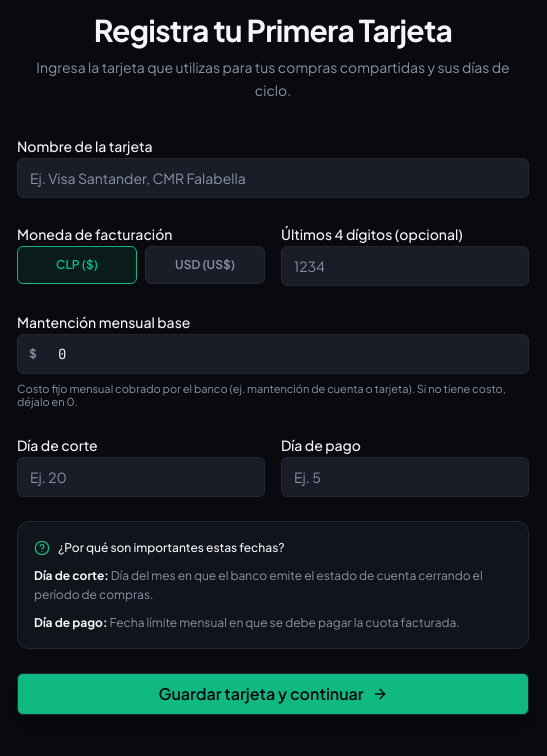
it: Onboarding Components — Phase 1 (StepIndicator, WelcomeStep, FirstCardStep) › FirstCardStep › rejects decimals in CLP for maintenance fee during onboarding
Type "Visa Santander" into the field labelled "Nombre de la tarjeta" at (273, 178), box [17,158,529,198]
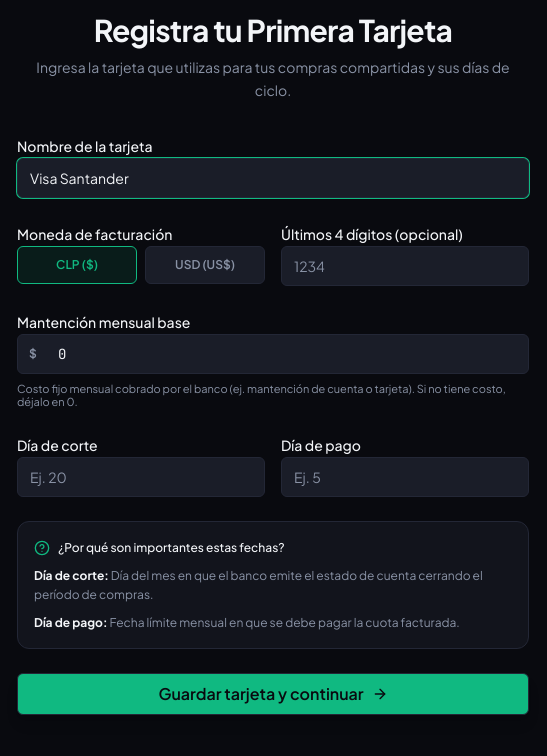
Type "20" into the number field labelled "Día de corte" at (141, 477), box [17,457,265,497]
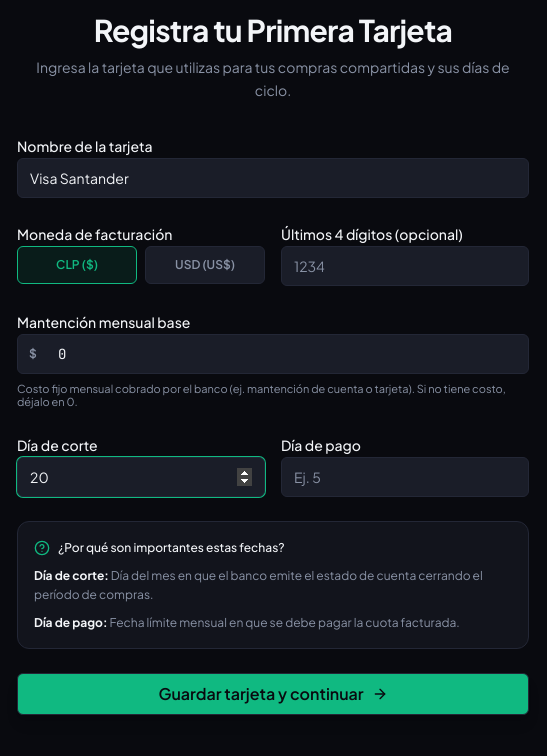
Type "5" into the number field labelled "Día de pago" at (405, 477), box [281,457,529,497]
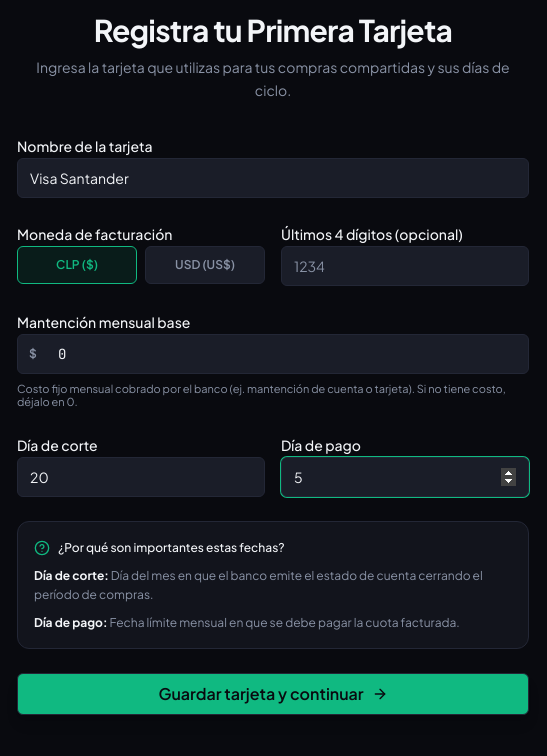
Type "4500.50" into the field labelled "Mantención mensual base" at (273, 354), box [17,334,529,374]
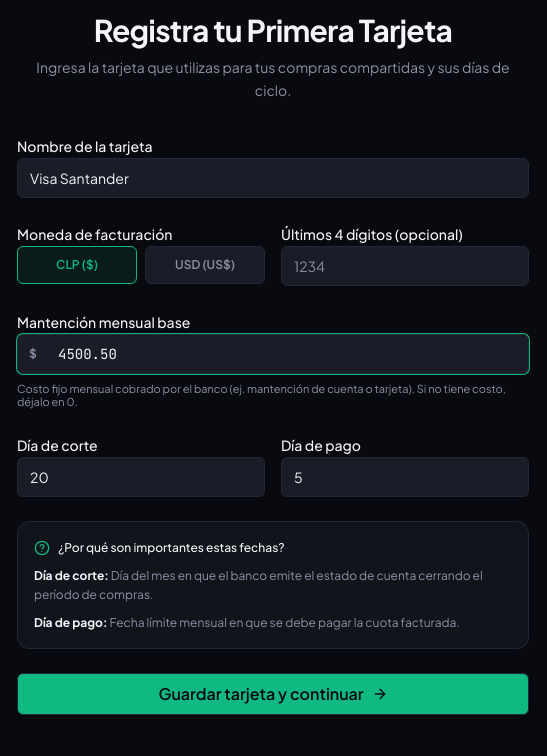
Click the button "Guardar tarjeta y continuar" at (273, 694), box [17,673,529,715]
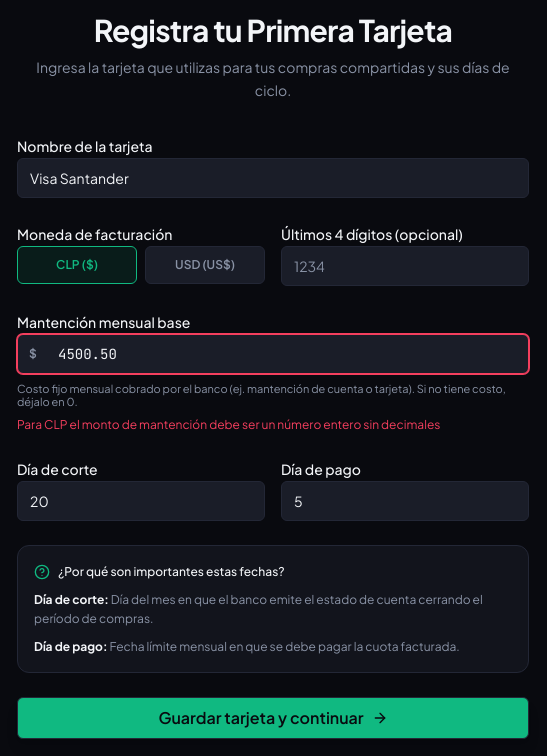
Now the text "Para CLP el monto de mantención debe ser un número entero sin decimales" is shown, box [17,417,440,432]
